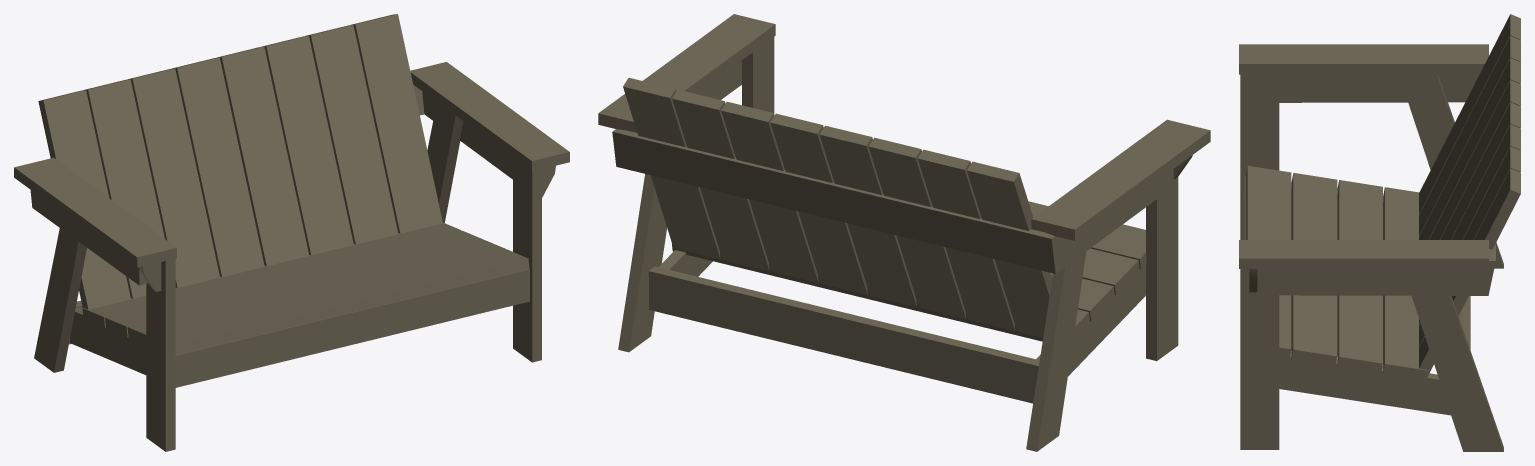
Rendered from sm_bench.fbx.
3 renders of one model, left to right at view 1: azimuth 30°, elevation 25°; view 2: azimuth 150°, elevation 25°; view 3: azimuth 270°, elevation 25°, orthographic. The views are drawn at different scales.
Visible parts, largest first — view 1: sm_bench; view 2: sm_bench; view 3: sm_bench.
Part boxes in pixels (<box>): sm_bench: <box>14,14,569,451</box>; sm_bench: <box>598,14,1210,451</box>; sm_bench: <box>1239,14,1520,451</box>.
Bounding box in the file's own units: 143 × 79.5 × 79.29.
